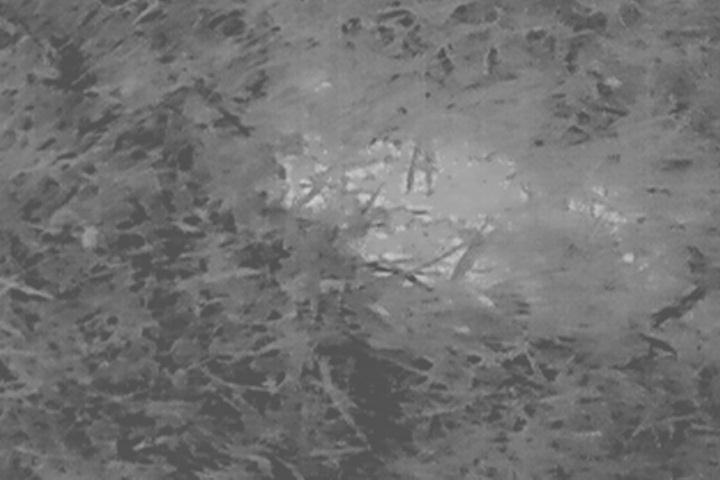landmine: (262, 111, 647, 312)
